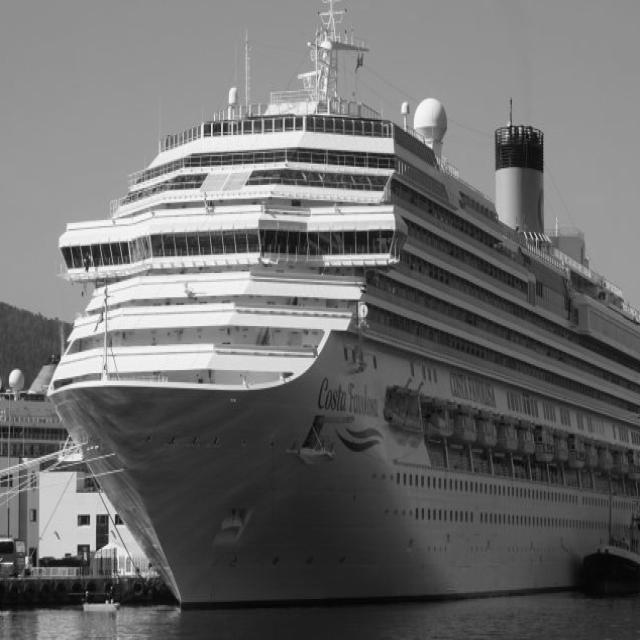cruises: (41, 1, 640, 623)
